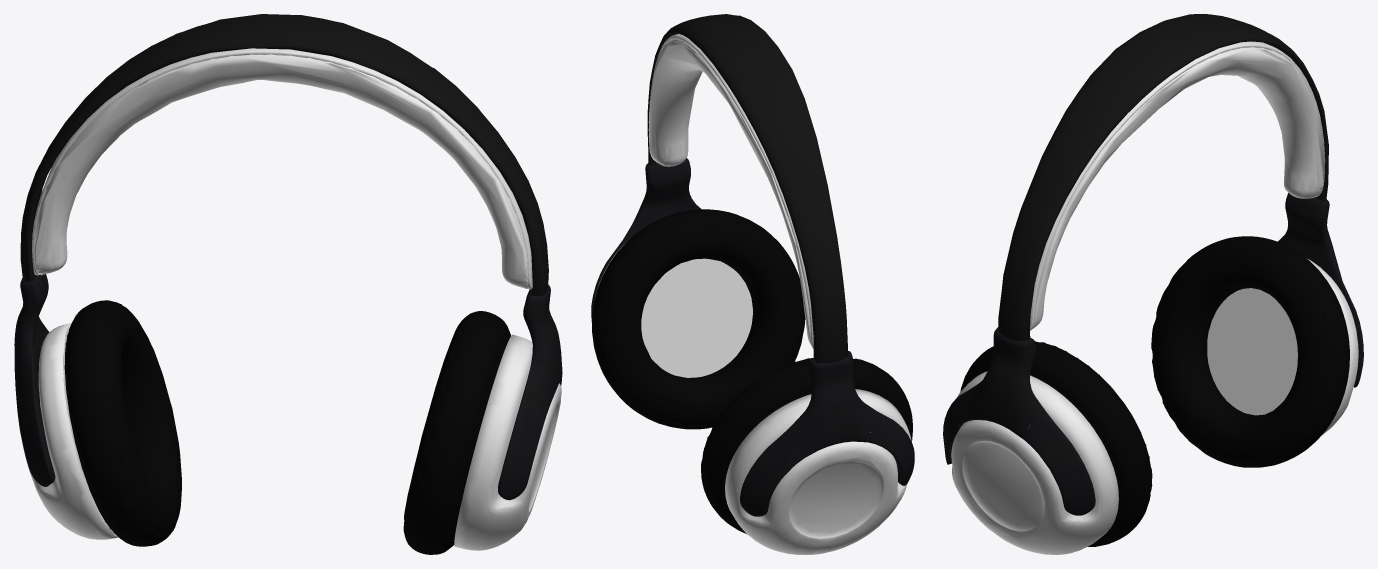
File: headphones.glb
The picture shows the model from 3 angles, left to right: view 1: azimuth 30°, elevation 25°; view 2: azimuth 150°, elevation 25°; view 3: azimuth 270°, elevation 25°; orthographic projection. The views are drawn at different scales.
Parts seen in each view (by area): view 1: Foam, UpperFoam, Upper, Ear, Lower; view 2: Foam, Upper, Ear, Lower, Fabric, UpperFoam; view 3: Foam, Upper, Ear, UpperFoam, Lower, Fabric.
Boxes of the visible parts, x1=… form: Foam: x1=64, y1=300, x2=510, y2=554; UpperFoam: x1=32, y1=48, x2=532, y2=289; Upper: x1=20, y1=14, x2=548, y2=295; Ear: x1=17, y1=323, x2=561, y2=550; Lower: x1=14, y1=274, x2=562, y2=500; Foam: x1=592, y1=209, x2=912, y2=533; Upper: x1=647, y1=14, x2=848, y2=363; Ear: x1=595, y1=241, x2=911, y2=554; Lower: x1=591, y1=158, x2=914, y2=516; Fabric: x1=641, y1=258, x2=860, y2=513; UpperFoam: x1=648, y1=34, x2=813, y2=348; Foam: x1=960, y1=236, x2=1349, y2=546; Upper: x1=998, y1=14, x2=1328, y2=341; Ear: x1=951, y1=259, x2=1358, y2=554; UpperFoam: x1=1030, y1=41, x2=1325, y2=330; Lower: x1=943, y1=193, x2=1363, y2=515; Fabric: x1=976, y1=288, x2=1297, y2=501.
Size of the model in its own units: 0.4401 by 0.4953 by 0.3988.
6 materials, 2 textured.
